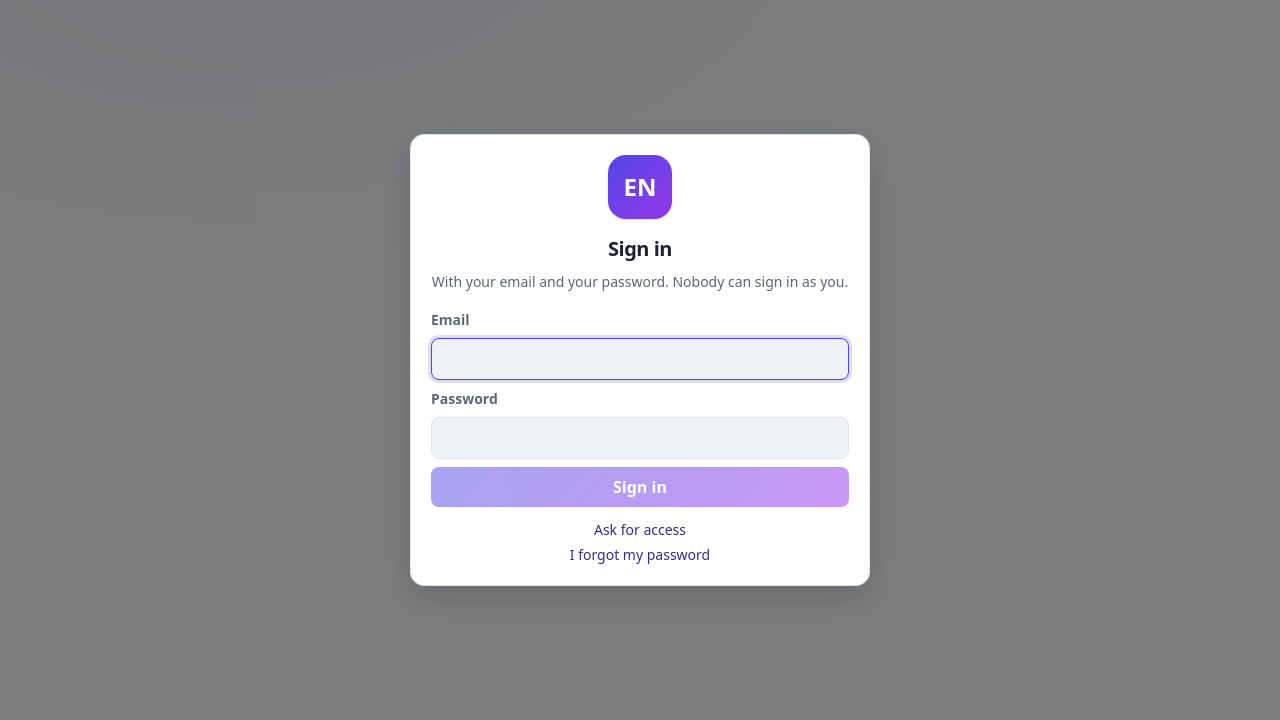
Scenario: ProfileGate · entrar (V3.82) › unas credenciales que no cuadran no se quedan en silencio
Type "ana@example.com" into the field labelled "Email".
click(640, 359); type("ana@example.com")  # box [431,338,849,380]
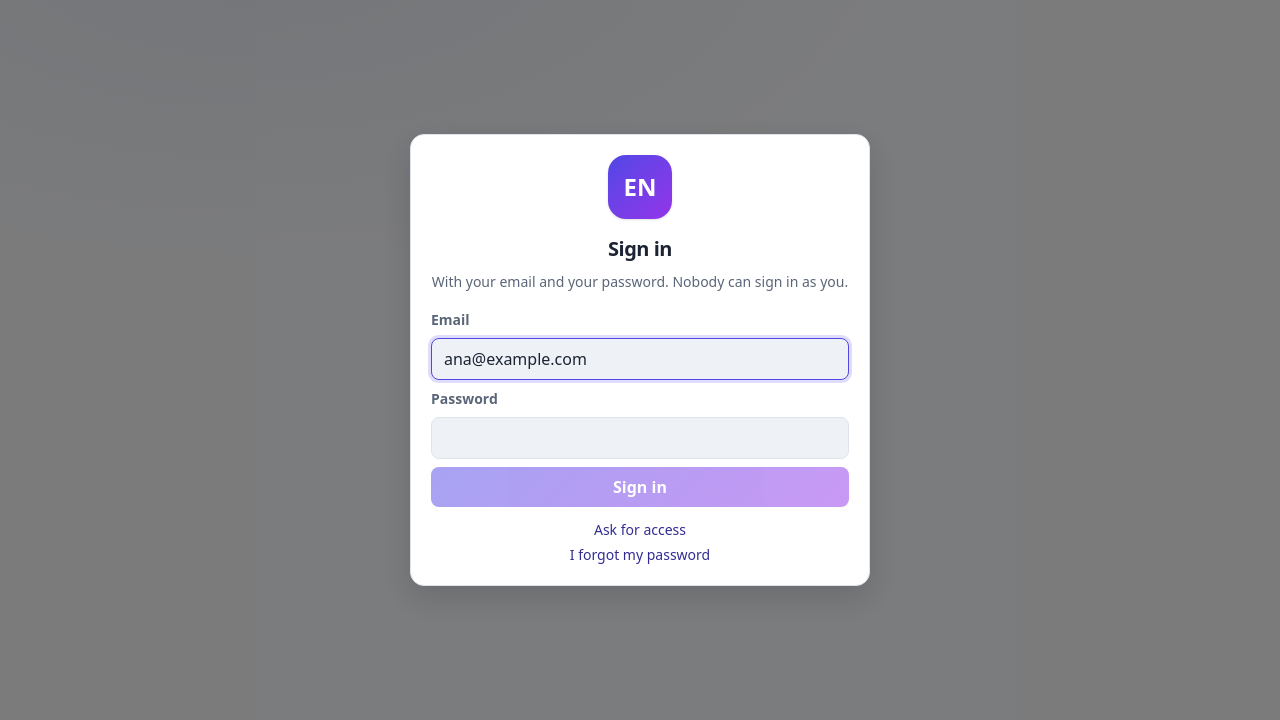
Type "caballo-bateria" into the password field labelled "Password".
click(640, 438); type("caballo-bateria")  # box [431,417,849,459]
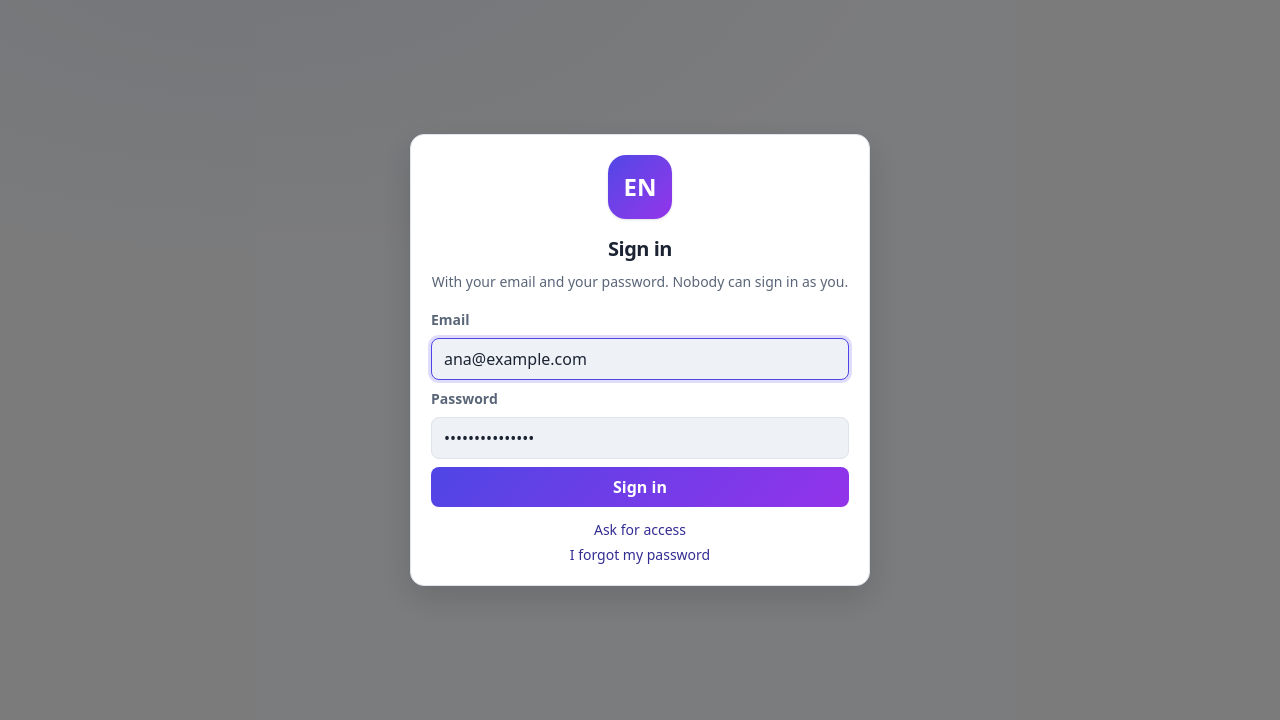
Click the button "Sign in".
click(640, 487)  # box [431,467,849,507]
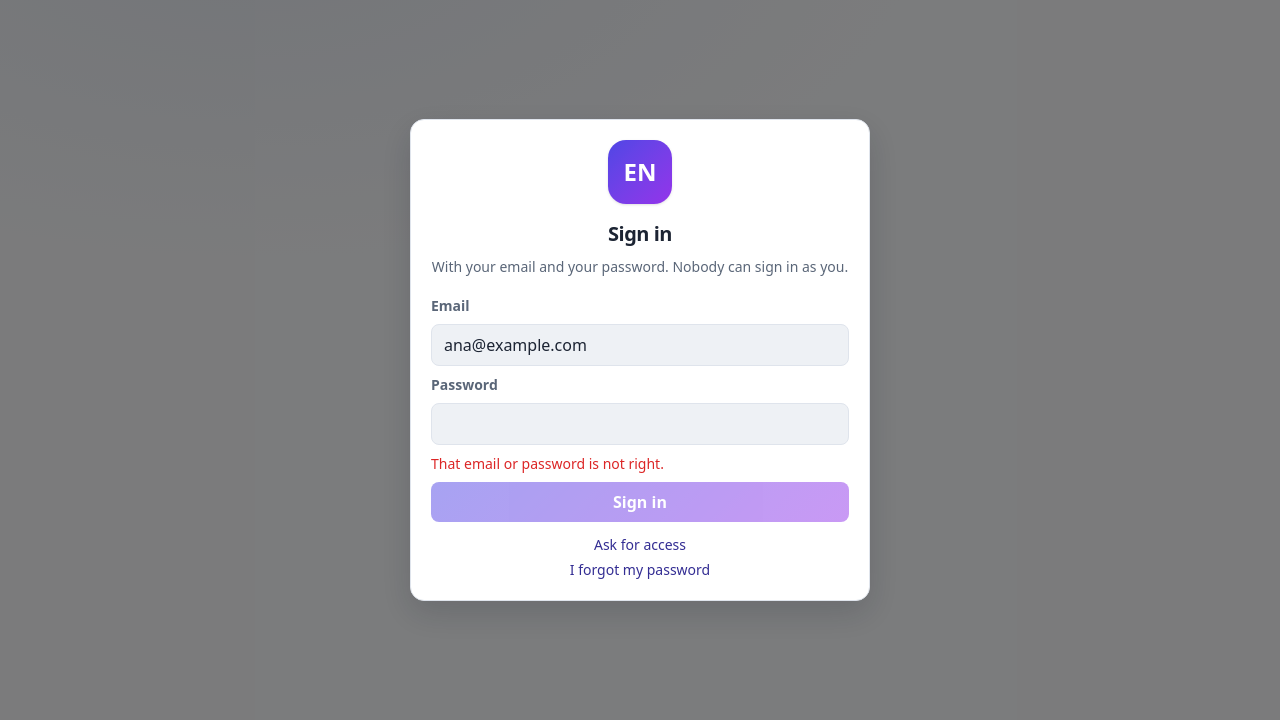
Expected: the text "That email or password is not right." is shown, [431,454,664,473]
Expected: the password field labelled "Password" is empty, [431,403,849,445]
